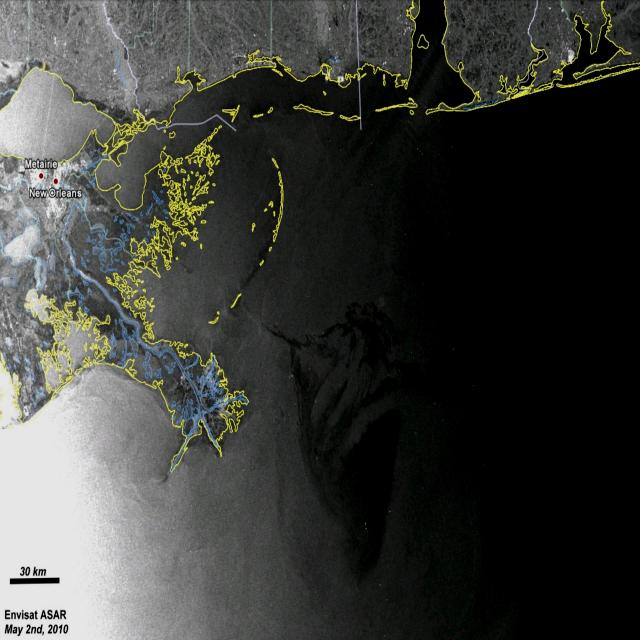oil spill: (272, 304, 484, 581), (159, 131, 276, 327)
